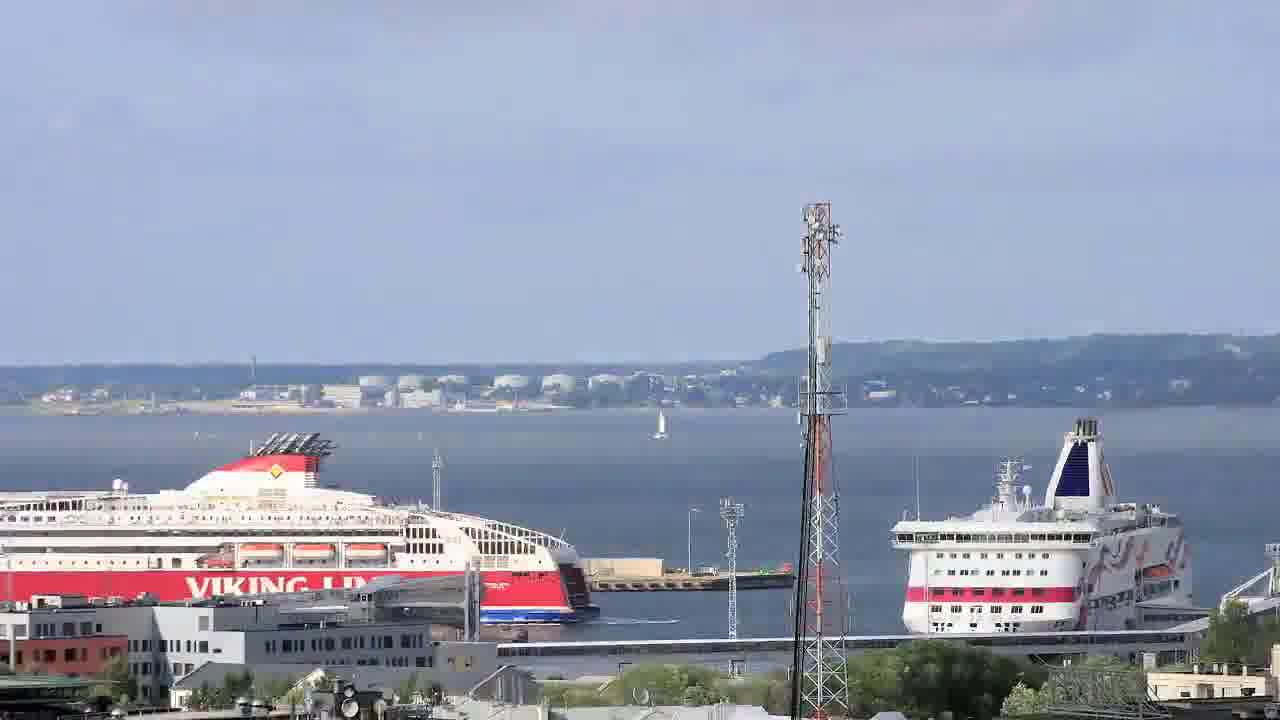type-2: (633, 391, 702, 454)
type-3: (0, 432, 605, 625), (868, 415, 1225, 638)
